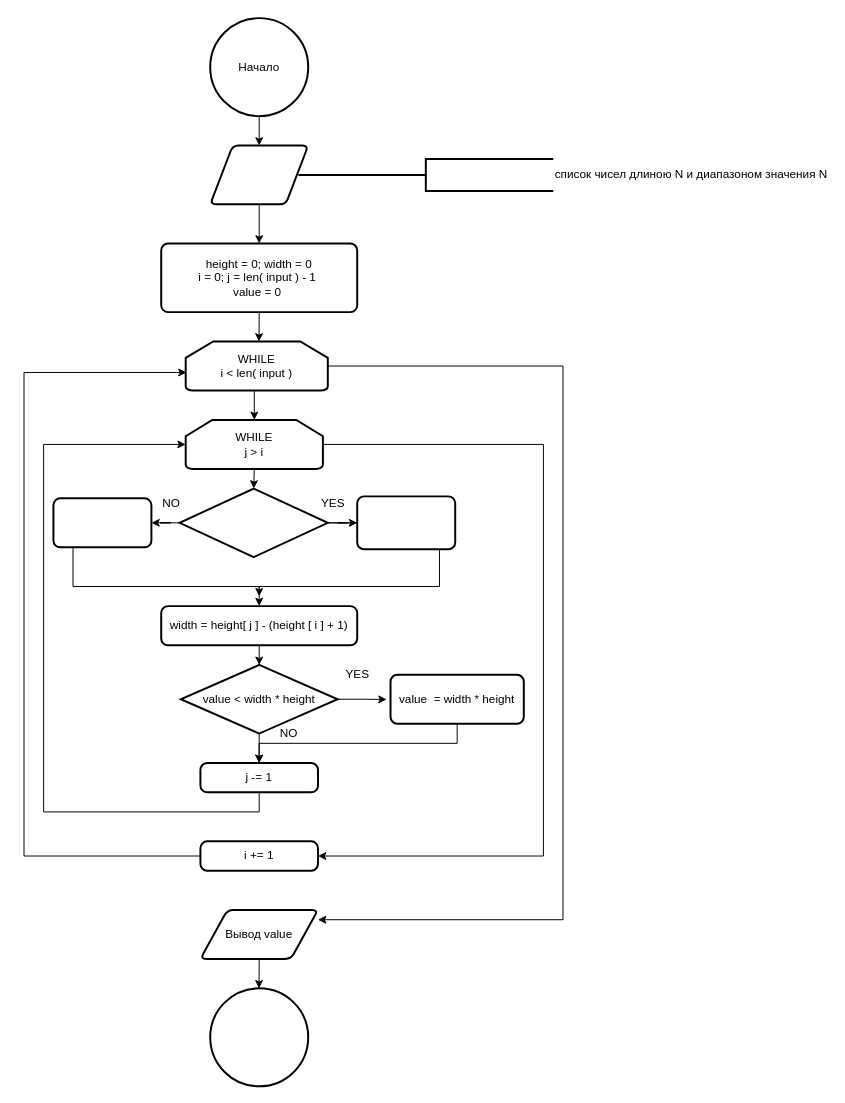
Image size: 845x1103. Some labels were removed from this diagram. Each missing label, with the centre of its shape:
height = input [ i ]: the point at 406,522
height = input [ j ]: the point at 102,522
input[ i ] < input [ j ]: the point at 253,522
Ввод (List): the point at 259,174
Конец: the point at 259,1037
